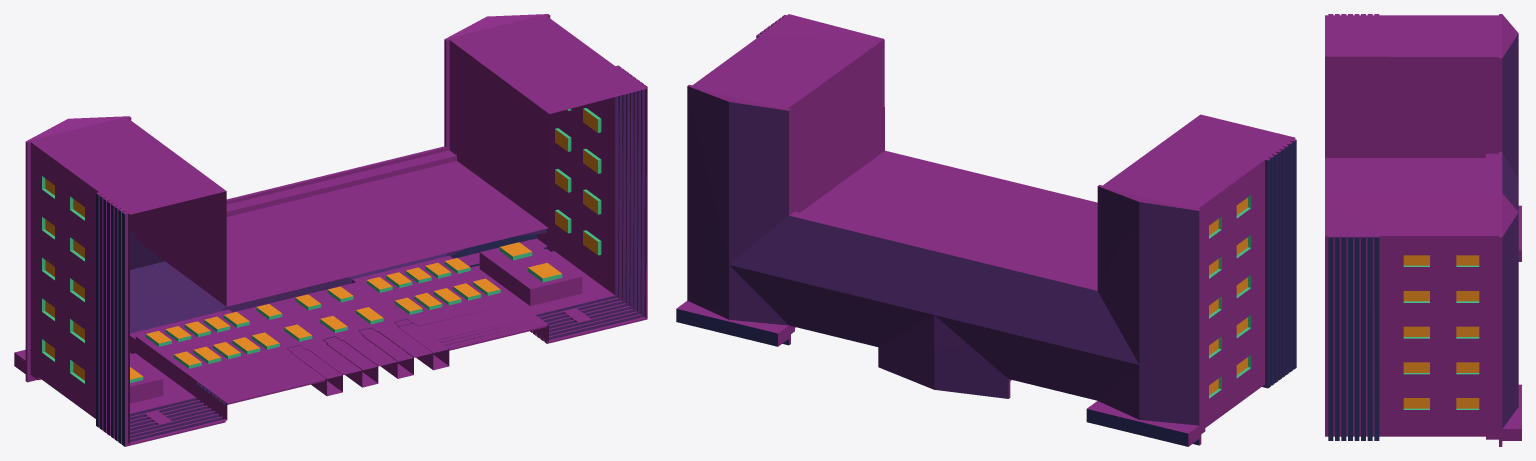
File: Urząd Miejski Żeromskiego Tier 1.fbx
3 views of the same model, side by side, from view 1: azimuth 30°, elevation 25°; view 2: azimuth 150°, elevation 25°; view 3: azimuth 270°, elevation 25° (orthographic). The views are drawn at different scales.
Visible parts, largest first — view 1: UM_RADOM_CAŁY; view 2: UM_RADOM_CAŁY; view 3: UM_RADOM_CAŁY.
Boxes of the visible parts, x1,y1,x2,y2 form: UM_RADOM_CAŁY: [14, 14, 647, 446]; UM_RADOM_CAŁY: [676, 14, 1296, 446]; UM_RADOM_CAŁY: [1325, 14, 1521, 446].
Size of the model in its own units: 3.92 by 1.74 by 1.46.
